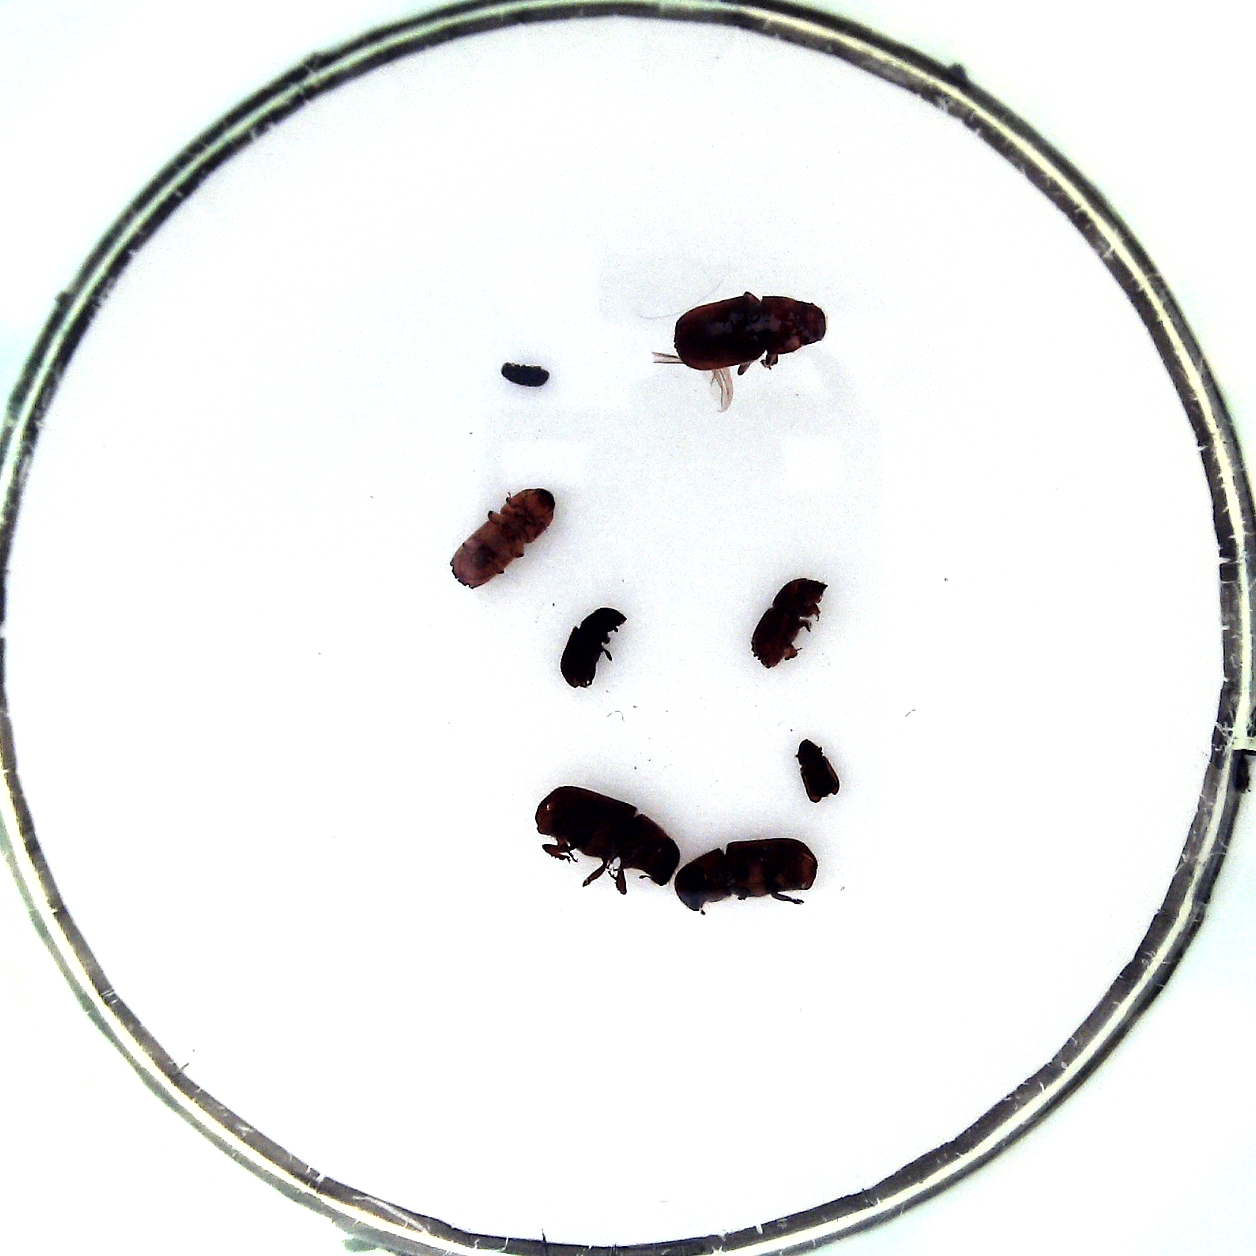Boerner: (447, 488, 556, 585)
Leconte: (534, 786, 681, 886), (673, 294, 828, 373), (673, 837, 819, 911)
acuminatus: (500, 362, 551, 386)
armandi: (560, 607, 628, 688)
coleoptera: (797, 738, 838, 804)
linnaeus: (750, 579, 828, 671)
